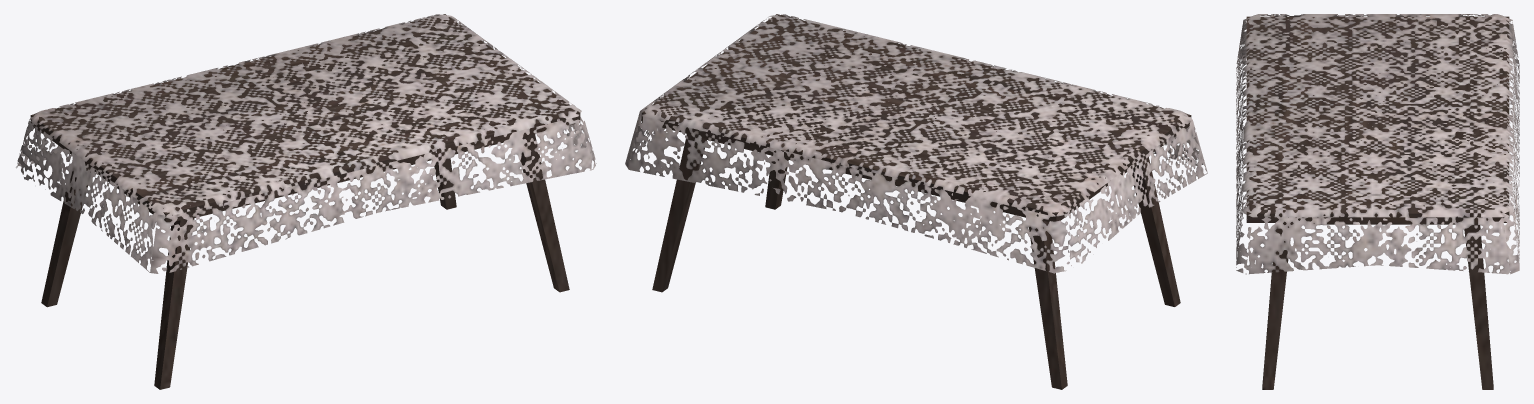
Rendered from Table_02.fbx.
3 renders of one model, left to right at view 1: azimuth 30°, elevation 25°; view 2: azimuth 150°, elevation 25°; view 3: azimuth 270°, elevation 25°, orthographic. The views are drawn at different scales.
Visible parts, largest first — view 1: Table_02; view 2: Table_02; view 3: Table_02.
Boxes of the visible parts, bbox=[...] form: Table_02: bbox=[16, 14, 596, 389]; Table_02: bbox=[625, 14, 1207, 389]; Table_02: bbox=[1236, 14, 1519, 389].
Bounding box in the file's own units: 212 × 84.16 × 120.
